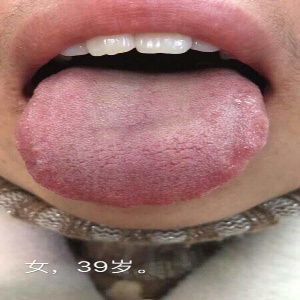st: (21, 72, 275, 222)
